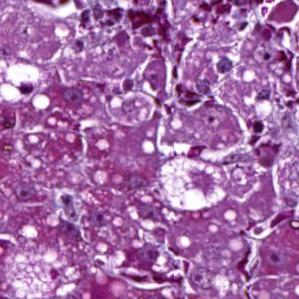ballooning: (156, 156, 227, 212), (4, 61, 43, 109)
